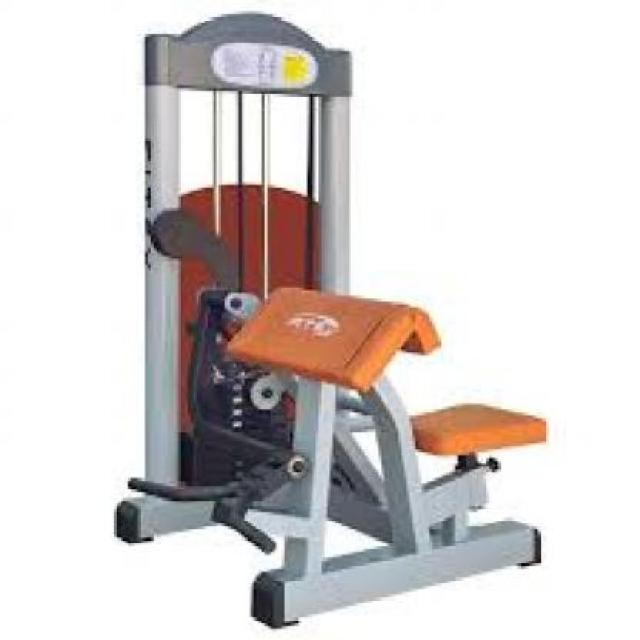arm curl machine: (114, 14, 551, 632)
